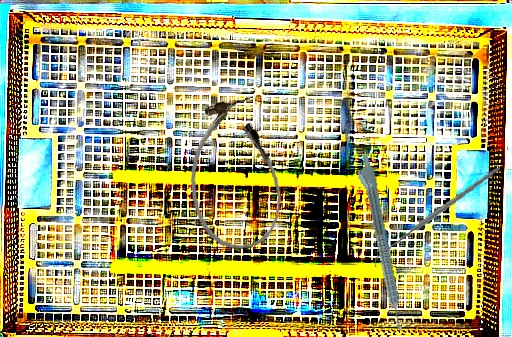Cannula: (182, 94, 287, 255)
Handpiece: (352, 152, 406, 334)
Hook Surgical: (366, 166, 509, 268)
